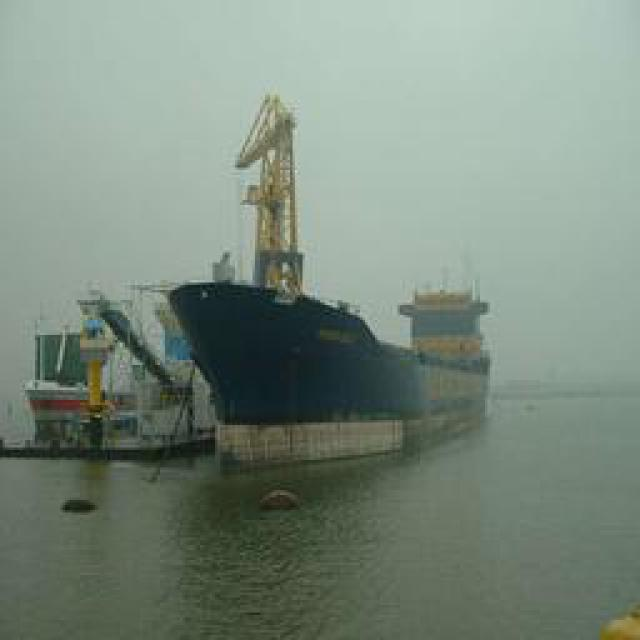Ship: (156, 84, 510, 473)
